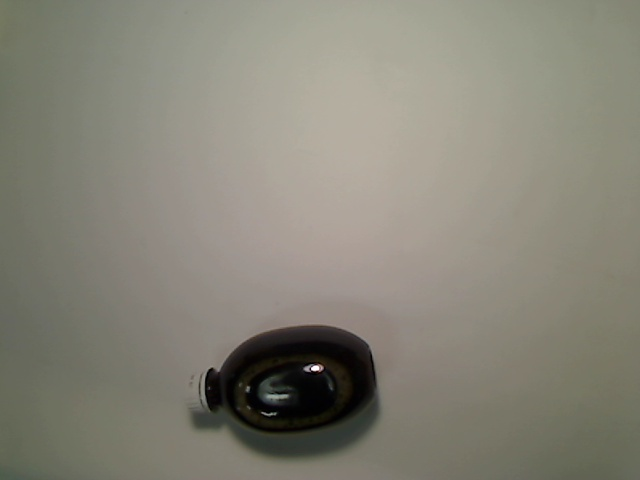plast_bottle: (182, 322, 379, 439)
